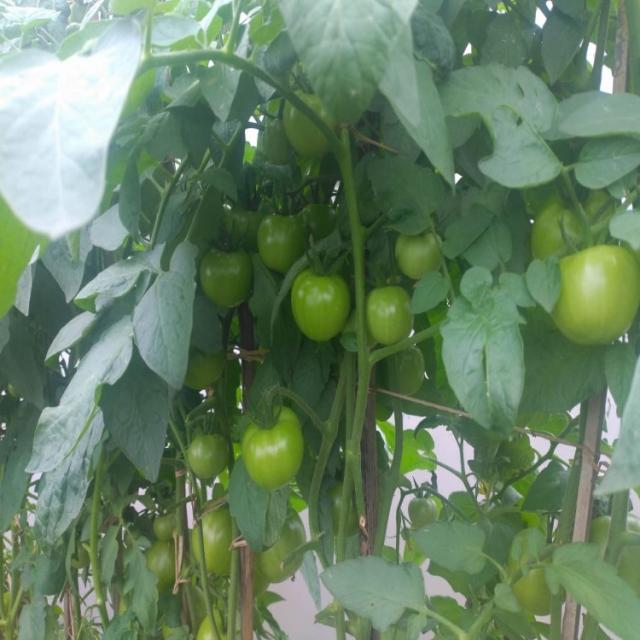tomato: (540, 245, 640, 355), (522, 184, 623, 255), (243, 409, 315, 491), (281, 81, 349, 161), (397, 231, 491, 288), (255, 507, 317, 590), (287, 267, 351, 345), (510, 535, 573, 612), (361, 286, 423, 351), (200, 250, 253, 318), (177, 339, 237, 394), (194, 500, 237, 576), (257, 216, 310, 271), (596, 520, 640, 573), (185, 434, 230, 481), (254, 101, 290, 159), (144, 549, 184, 592), (301, 195, 335, 232), (221, 204, 250, 241), (151, 505, 181, 540), (197, 612, 228, 640), (407, 495, 434, 527)
